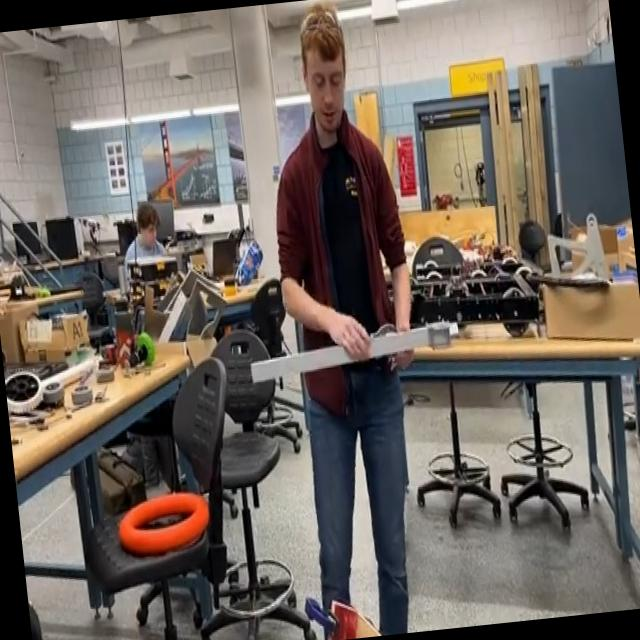note: (112, 484, 216, 563)
